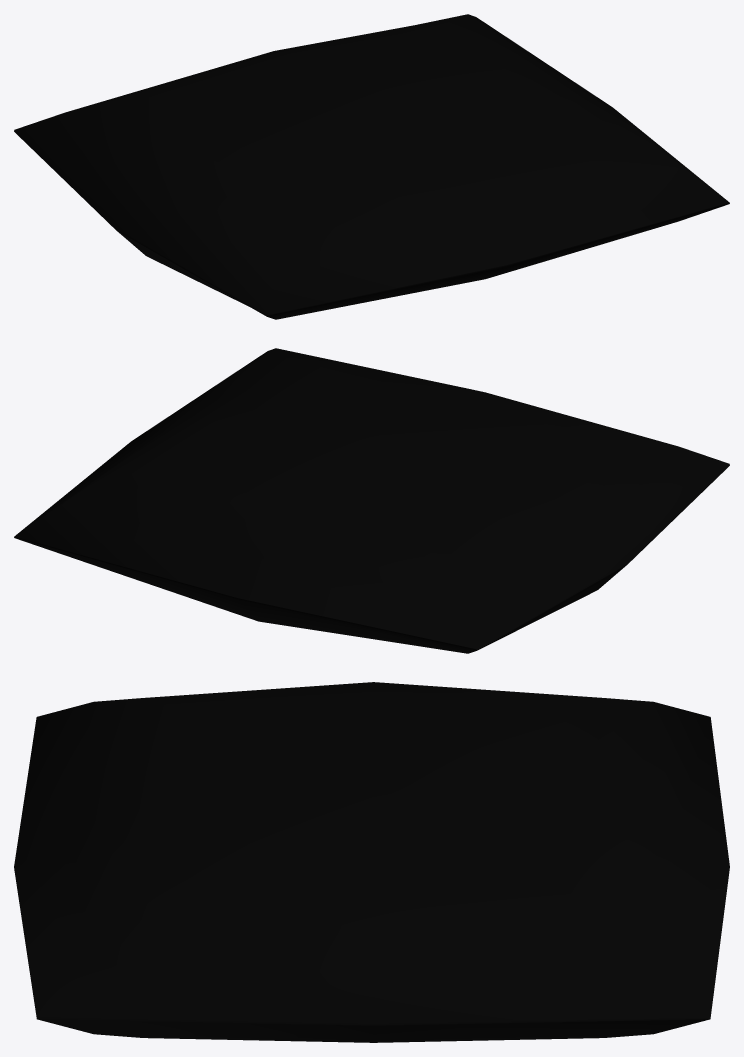
The picture shows the model from 3 angles, top to bottom: view 1: azimuth 30°, elevation 25°; view 2: azimuth 150°, elevation 25°; view 3: azimuth 270°, elevation 25°; orthographic projection. The views are drawn at different scales.
Parts seen in each view (by area): view 1: Joint_0_Object_0, Joint_0_Object_1; view 2: Joint_0_Object_0, Joint_0_Object_1; view 3: Joint_0_Object_0, Joint_0_Object_1.
Boxes of the visible parts, <box> form: Joint_0_Object_0: <box>14,14,729,319</box>; Joint_0_Object_1: <box>114,17,629,227</box>; Joint_0_Object_0: <box>14,348,729,653</box>; Joint_0_Object_1: <box>114,358,629,561</box>; Joint_0_Object_0: <box>14,698,729,1042</box>; Joint_0_Object_1: <box>120,682,634,933</box>.
Size of the model in its own units: 1270 by 288 by 1190.
Materials: 2 (2 with a texture image).
